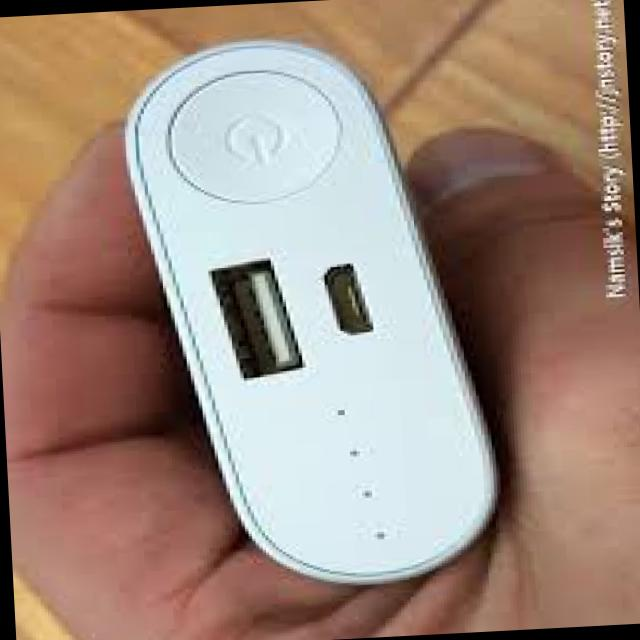portable-charger: (110, 22, 518, 598)
